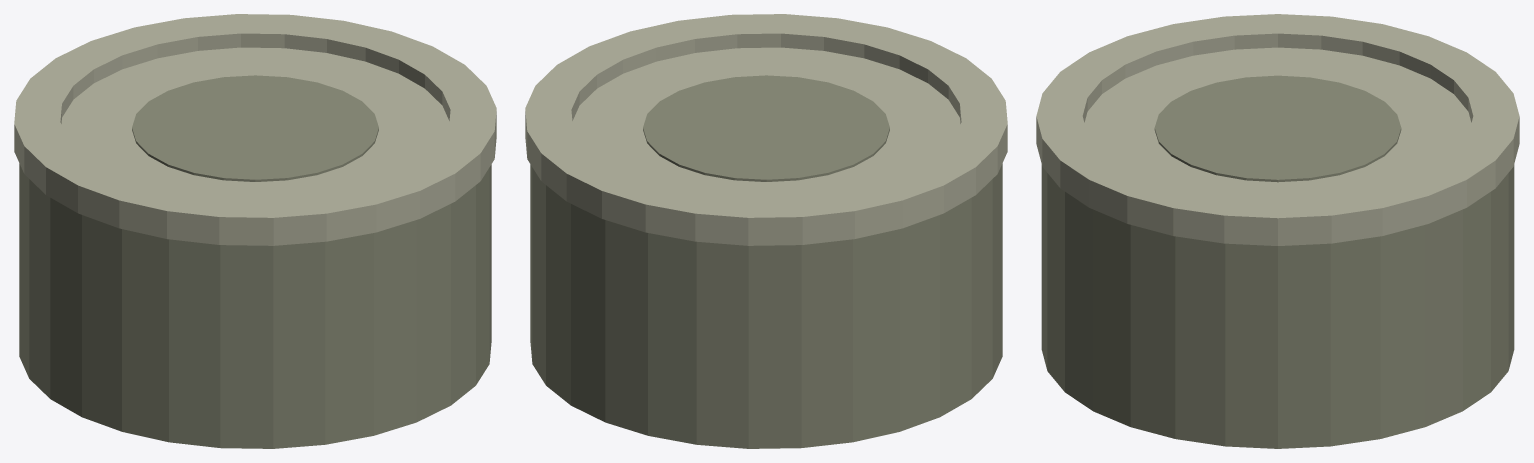
The model's file is vge_mech_crate_b.obj.
3 views of the same model, side by side, from view 1: azimuth 30°, elevation 25°; view 2: azimuth 150°, elevation 25°; view 3: azimuth 270°, elevation 25° (orthographic).
Parts seen in each view (by area): view 1: vge_mech_crate_b_0, vge_mech_crate_b_1, vge_mech_crate_b_2, vge_mech_crate_b_3; view 2: vge_mech_crate_b_0, vge_mech_crate_b_1, vge_mech_crate_b_2, vge_mech_crate_b_3; view 3: vge_mech_crate_b_0, vge_mech_crate_b_1, vge_mech_crate_b_2, vge_mech_crate_b_3.
Boxes of the visible parts, x1=… form: vge_mech_crate_b_0: x1=19, y1=163, x2=491, y2=448; vge_mech_crate_b_1: x1=14, y1=14, x2=496, y2=245; vge_mech_crate_b_2: x1=61, y1=47, x2=449, y2=198; vge_mech_crate_b_3: x1=132, y1=75, x2=378, y2=181; vge_mech_crate_b_0: x1=530, y1=163, x2=1002, y2=448; vge_mech_crate_b_1: x1=525, y1=14, x2=1007, y2=245; vge_mech_crate_b_2: x1=572, y1=47, x2=960, y2=198; vge_mech_crate_b_3: x1=643, y1=75, x2=889, y2=181; vge_mech_crate_b_0: x1=1041, y1=164, x2=1514, y2=448; vge_mech_crate_b_1: x1=1036, y1=14, x2=1519, y2=245; vge_mech_crate_b_2: x1=1084, y1=47, x2=1471, y2=198; vge_mech_crate_b_3: x1=1154, y1=75, x2=1401, y2=182.
Bounding box in the file's own units: 0.94 × 0.5 × 0.94.
